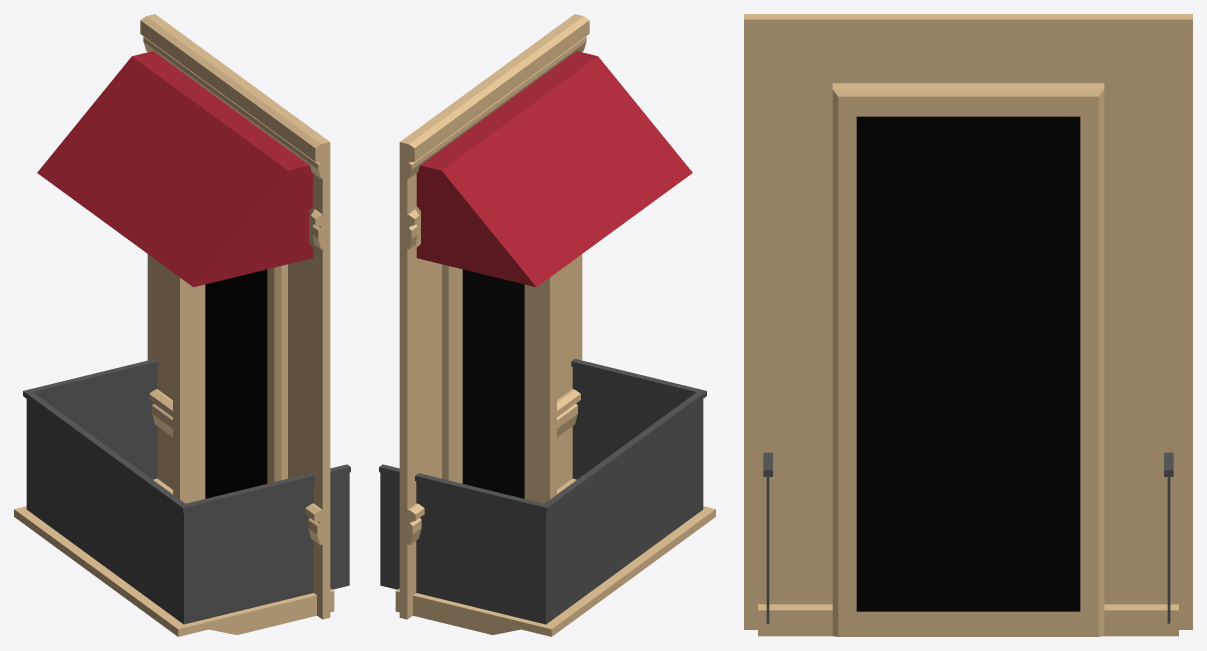
File: Balcony_2_B.fbx
The picture shows the model from 3 angles, left to right: view 1: azimuth 30°, elevation 25°; view 2: azimuth 150°, elevation 25°; view 3: azimuth 270°, elevation 25°; orthographic projection. The views are drawn at different scales.
Visible parts, largest first — view 1: Balcony_2_B; view 2: Balcony_2_B; view 3: Balcony_2_B.
Part boxes in pixels (x1,y1,x2,y2): Balcony_2_B: (14, 14, 350, 636); Balcony_2_B: (379, 14, 715, 636); Balcony_2_B: (744, 14, 1192, 636).
Bounding box in the file's own units: 115 × 200 × 300.
